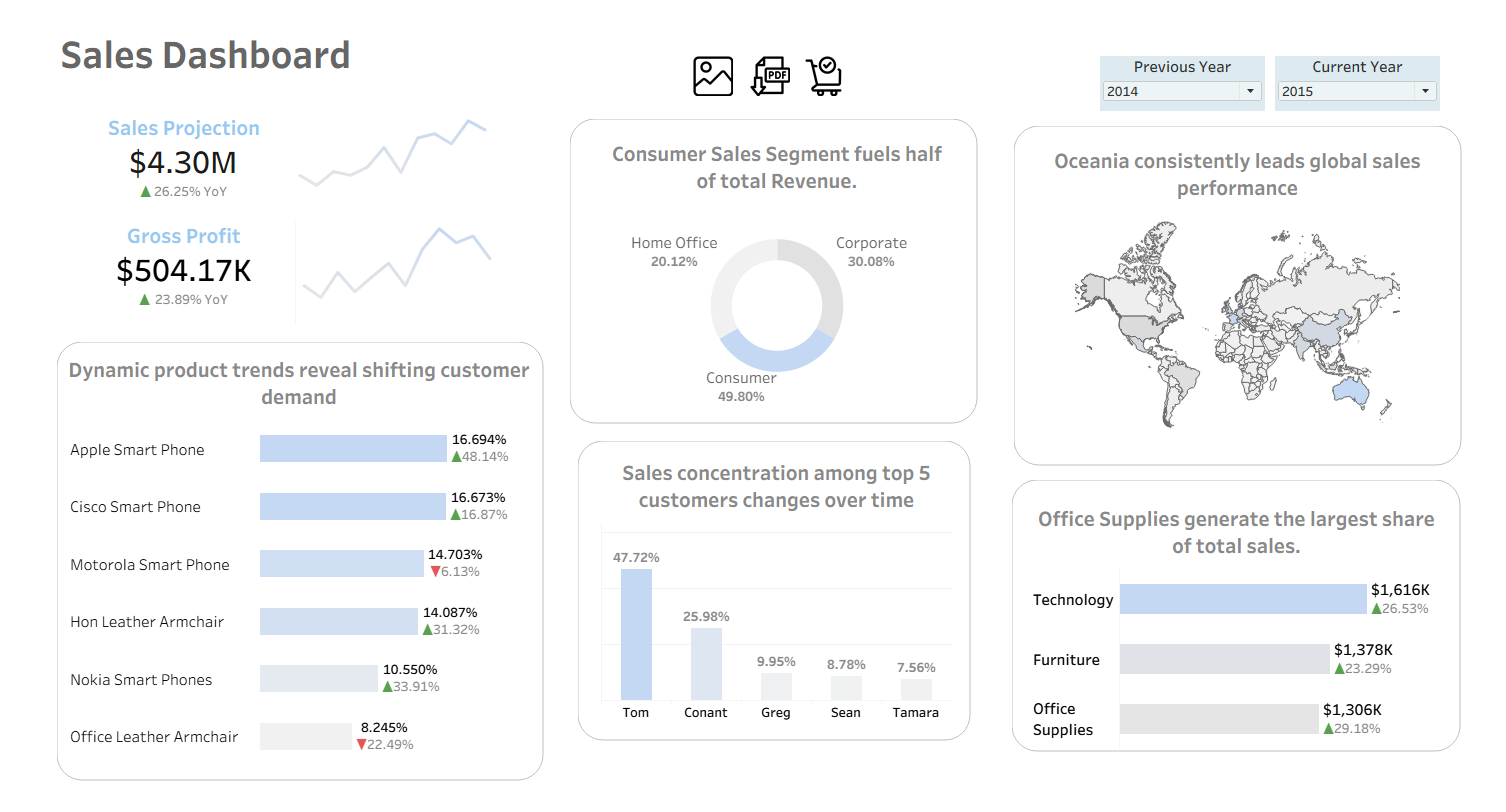

This screenshot's page, from the dashboard's own definition file:
{"tool":"tableau","page":{"name":"Sales Dashboard","canvas":[1500,800],"ordinal":1},"visuals":[{"type":"text","box":[36,8,335,55]},{"type":"dashboard-object","box":[670,39,45,40]},{"type":"dashboard-object","box":[727,39,45,40]},{"type":"dashboard-object","box":[780,39,45,40]},{"type":"parameter","param":"[Parameters].[Parameter 3]","box":[1079,39,165,55]},{"type":"parameter","param":"[Parameters].[Parameter 2]","box":[1254,39,165,55]},{"type":"worksheet","title":"Sales Projection","mark":"Text","box":[62,97,202,103]},{"type":"worksheet","title":"Sales Trend","mark":"Line","rows":["Calculation_1589207721278599168"],"cols":["order_date"],"box":[270,97,202,103]},{"type":"worksheet","title":"pie chart","mark":"Automatic","box":[549,102,412,306]},{"type":"worksheet","title":"map","mark":"Automatic","box":[993,109,455,343]},{"type":"worksheet","title":"Sales By Segment","mark":"Pie","rows":["Calculation_1589207721284571143","Calculation_1589207721284591625"],"box":[585,118,342,272]},{"type":"worksheet","title":"Sales by Region","mark":"Multipolygon","box":[1024,125,385,307]},{"type":"worksheet","title":"Gross Profit","mark":"Automatic","box":[62,205,202,103]},{"type":"worksheet","title":"Profit Trend","mark":"Line","rows":["CY Sales (copy)_1589207721281822722"],"cols":["order_date"],"box":[274,205,203,103]},{"type":"worksheet","title":"Tp sales ","mark":"Automatic","box":[36,325,506,469]},{"type":"worksheet","title":"Top Sales by Product ","mark":"Automatic","rows":["product_name"],"cols":["Calculation_1589207721278599168"],"box":[43,334,470,414]},{"type":"worksheet","title":"customers","mark":"Automatic","box":[557,424,395,314]},{"type":"worksheet","title":"Top 5 Customers","mark":"Bar","rows":["Calculation_1589207721278599168"],"cols":["customer_name"],"box":[580,437,351,268]},{"type":"worksheet","title":"Categories","mark":"Automatic","box":[991,463,465,292]},{"type":"worksheet","title":"Sales by Category","mark":"Automatic","rows":["category"],"cols":["Calculation_1589207721278599168"],"box":[986,473,459,279]}]}

Visuals, with their boxes in screenshot pixels (x1, y1, x2, y2), scaled from the page's 1500x800 canvas onto the 1506x812 screenshot:
text: l=36, t=8, r=372, b=64
dashboard-object: l=673, t=40, r=718, b=80
dashboard-object: l=730, t=40, r=775, b=80
dashboard-object: l=783, t=40, r=828, b=80
parameter: l=1083, t=40, r=1249, b=95
parameter: l=1259, t=40, r=1425, b=95
"Sales Projection" worksheet (Text marks): l=62, t=98, r=265, b=203
"Sales Trend" worksheet (Line marks): l=271, t=98, r=474, b=203
"pie chart" worksheet: l=551, t=104, r=965, b=414
"map" worksheet: l=997, t=111, r=1454, b=459
"Sales By Segment" worksheet (Pie marks): l=587, t=120, r=931, b=396
"Sales by Region" worksheet (Multipolygon marks): l=1028, t=127, r=1415, b=438
"Gross Profit" worksheet: l=62, t=208, r=265, b=313
"Profit Trend" worksheet (Line marks): l=275, t=208, r=479, b=313
"Tp sales " worksheet: l=36, t=330, r=544, b=806
"Top Sales by Product " worksheet: l=43, t=339, r=515, b=759
"customers" worksheet: l=559, t=430, r=956, b=749
"Top 5 Customers" worksheet (Bar marks): l=582, t=444, r=935, b=716
"Categories" worksheet: l=995, t=470, r=1462, b=766
"Sales by Category" worksheet: l=990, t=480, r=1451, b=763
